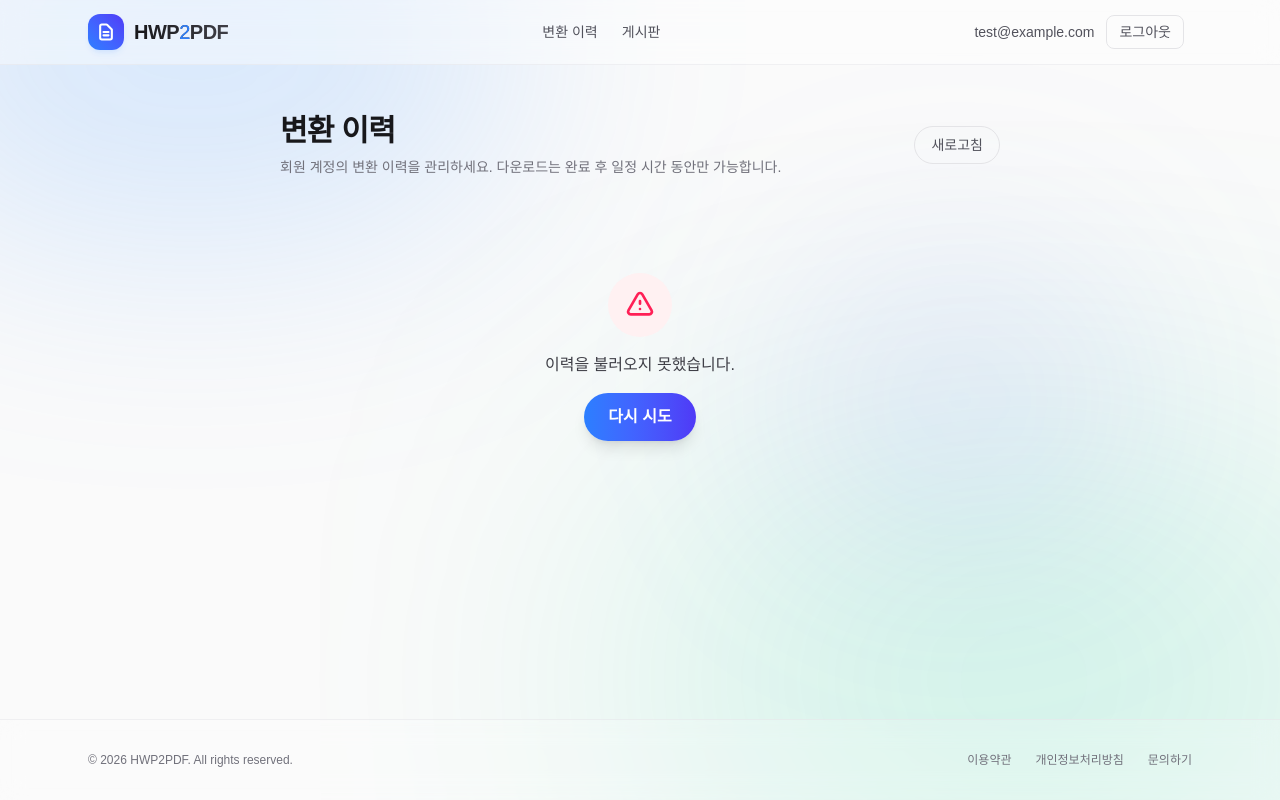
Test: HistoryPage › retry button restores data after error
Expected: the element with test id "history-error" is shown, [545, 273, 735, 441]
Click retry
Click the button with test id "history-retry-button" at [640, 417], box [584, 393, 696, 441]
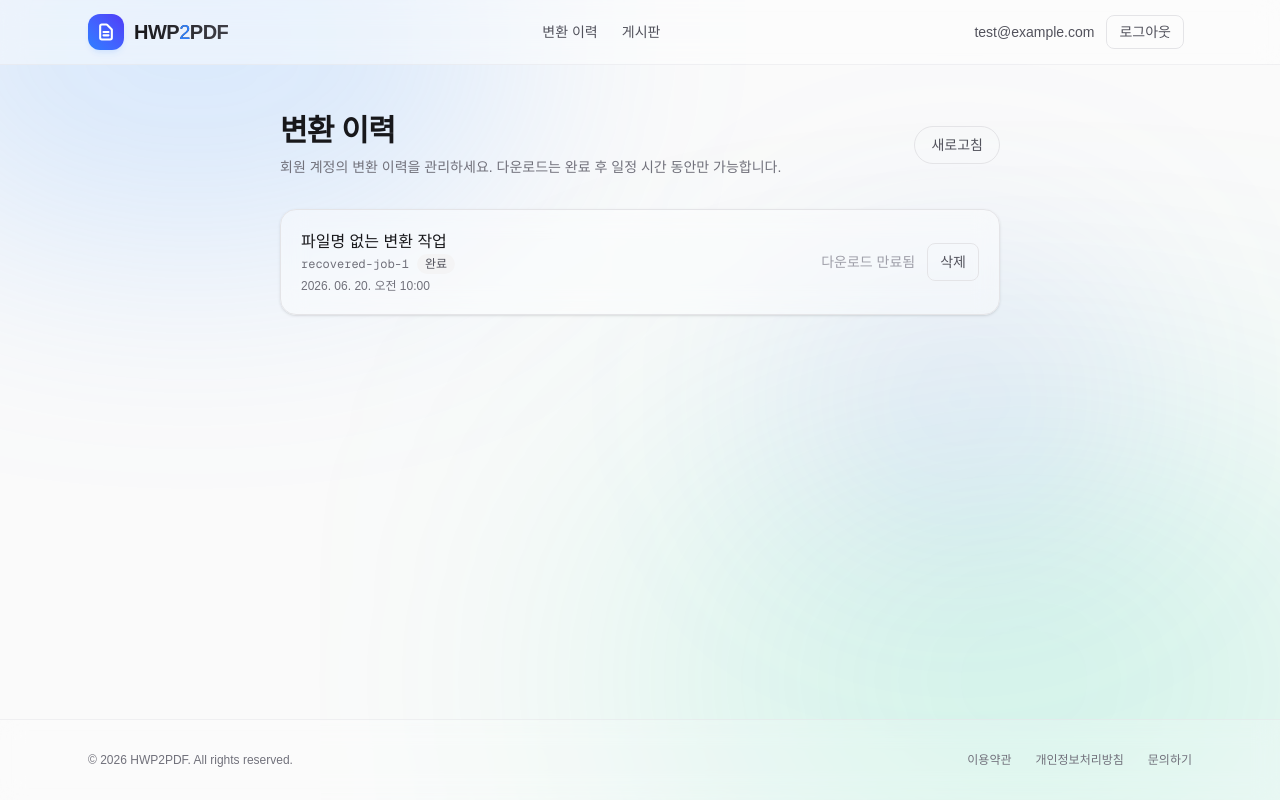
Now the text "recovered-job-1" is shown, box [301, 256, 409, 272]
Now the element with test id "history-error" is gone
